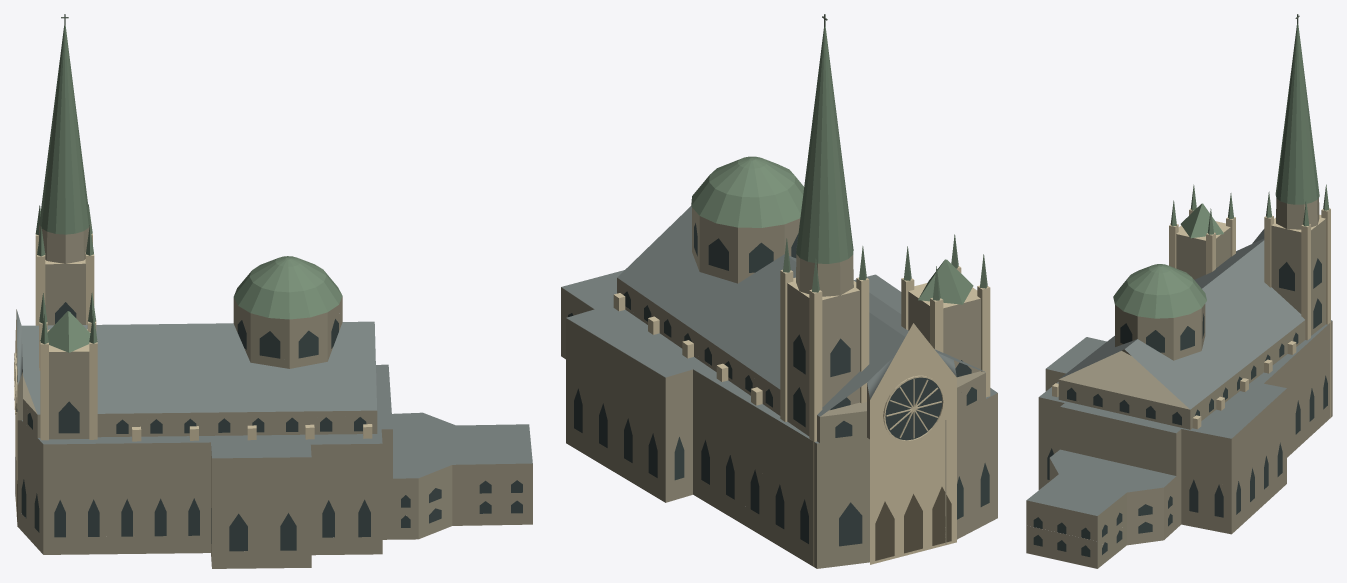
File: cathedrale-saint-antoine-longueuil-near.glb
3 renders of one model, left to right at view 1: azimuth 30°, elevation 25°; view 2: azimuth 150°, elevation 25°; view 3: azimuth 270°, elevation 25°, orthographic. The views are drawn at different scales.
Parts seen in each view (by area): view 1: cathedrale-saint-antoine-longueuil-0-stone, cathedrale-saint-antoine-longueuil-0-slate, cathedrale-saint-antoine-longueuil-0-roof, cathedrale-saint-antoine-longueuil-0-glass, cathedrale-saint-antoine-longueuil-0-trim; view 2: cathedrale-saint-antoine-longueuil-0-stone, cathedrale-saint-antoine-longueuil-0-slate, cathedrale-saint-antoine-longueuil-0-trim, cathedrale-saint-antoine-longueuil-0-roof, cathedrale-saint-antoine-longueuil-0-glass, cathedrale-saint-antoine-longueuil-0-door; view 3: cathedrale-saint-antoine-longueuil-0-stone, cathedrale-saint-antoine-longueuil-0-slate, cathedrale-saint-antoine-longueuil-0-roof, cathedrale-saint-antoine-longueuil-0-glass, cathedrale-saint-antoine-longueuil-0-trim.
Boxes of the visible parts, bbox=[...] form: cathedrale-saint-antoine-longueuil-0-stone: bbox=[17, 224, 532, 568]; cathedrale-saint-antoine-longueuil-0-slate: bbox=[16, 309, 532, 478]; cathedrale-saint-antoine-longueuil-0-roof: bbox=[35, 25, 342, 352]; cathedrale-saint-antoine-longueuil-0-glass: bbox=[16, 302, 522, 551]; cathedrale-saint-antoine-longueuil-0-trim: bbox=[14, 232, 372, 526]; cathedrale-saint-antoine-longueuil-0-stone: bbox=[561, 207, 997, 568]; cathedrale-saint-antoine-longueuil-0-slate: bbox=[561, 206, 997, 443]; cathedrale-saint-antoine-longueuil-0-trim: bbox=[613, 266, 990, 566]; cathedrale-saint-antoine-longueuil-0-roof: bbox=[691, 27, 987, 304]; cathedrale-saint-antoine-longueuil-0-glass: bbox=[568, 223, 989, 546]; cathedrale-saint-antoine-longueuil-0-door: bbox=[875, 487, 951, 560]; cathedrale-saint-antoine-longueuil-0-stone: bbox=[1026, 198, 1332, 568]; cathedrale-saint-antoine-longueuil-0-slate: bbox=[1027, 229, 1331, 515]; cathedrale-saint-antoine-longueuil-0-roof: bbox=[1113, 24, 1329, 318]; cathedrale-saint-antoine-longueuil-0-glass: bbox=[1033, 258, 1327, 556]; cathedrale-saint-antoine-longueuil-0-trim: bbox=[1052, 208, 1330, 429].
Bounding box in the file's own units: 78.33 × 81 × 55.14.
